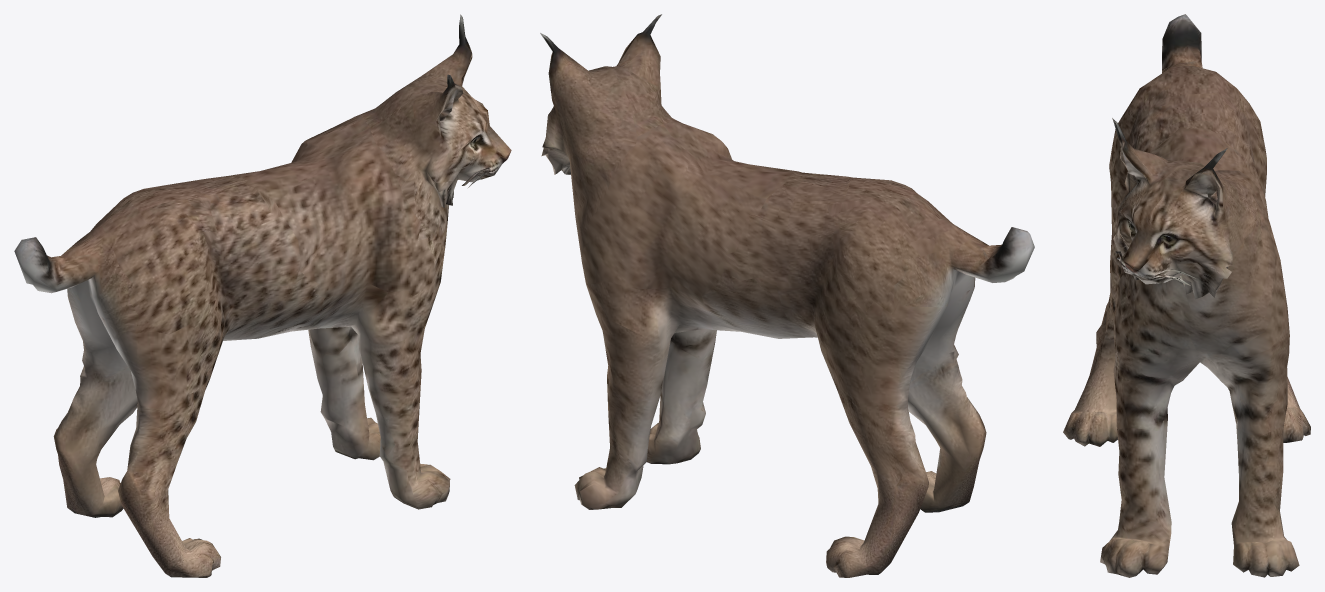
Rendered from STUBTAIL-lo.glb.
3 renders of one model, left to right at view 1: azimuth 30°, elevation 25°; view 2: azimuth 150°, elevation 25°; view 3: azimuth 270°, elevation 25°, orthographic. The views are drawn at different scales.
Parts seen in each view (by area): view 1: tripo_node_07d07a46-2995-4c61-818f-d6573b1e6746; view 2: tripo_node_07d07a46-2995-4c61-818f-d6573b1e6746; view 3: tripo_node_07d07a46-2995-4c61-818f-d6573b1e6746.
Boxes of the visible parts, left/top/right/bottom form: tripo_node_07d07a46-2995-4c61-818f-d6573b1e6746: left=14, top=14, right=511, bottom=577; tripo_node_07d07a46-2995-4c61-818f-d6573b1e6746: left=540, top=14, right=1034, bottom=577; tripo_node_07d07a46-2995-4c61-818f-d6573b1e6746: left=1063, top=14, right=1310, bottom=577.
Bounding box in the file's own units: 1.15 × 0.9993 × 0.4833.
Materials: 1 (1 with a texture image).
